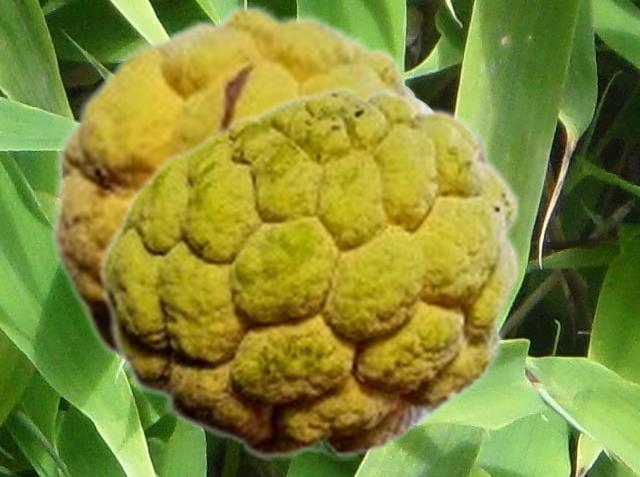atis: (97, 85, 521, 459), (48, 2, 432, 367)
